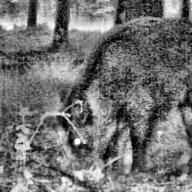boar: (49, 24, 192, 180)
